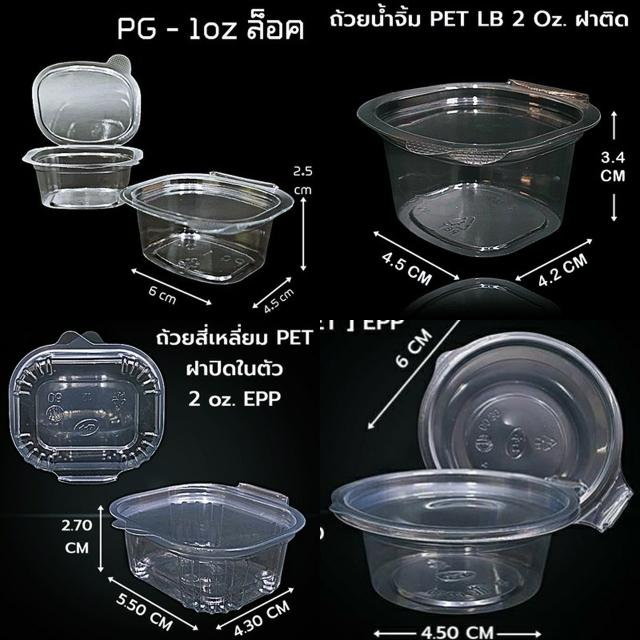Single-Use-Plastic: (358, 81, 599, 257), (419, 332, 631, 531), (330, 469, 584, 614), (110, 484, 305, 613), (9, 331, 164, 484), (121, 172, 294, 284), (22, 55, 142, 209)
